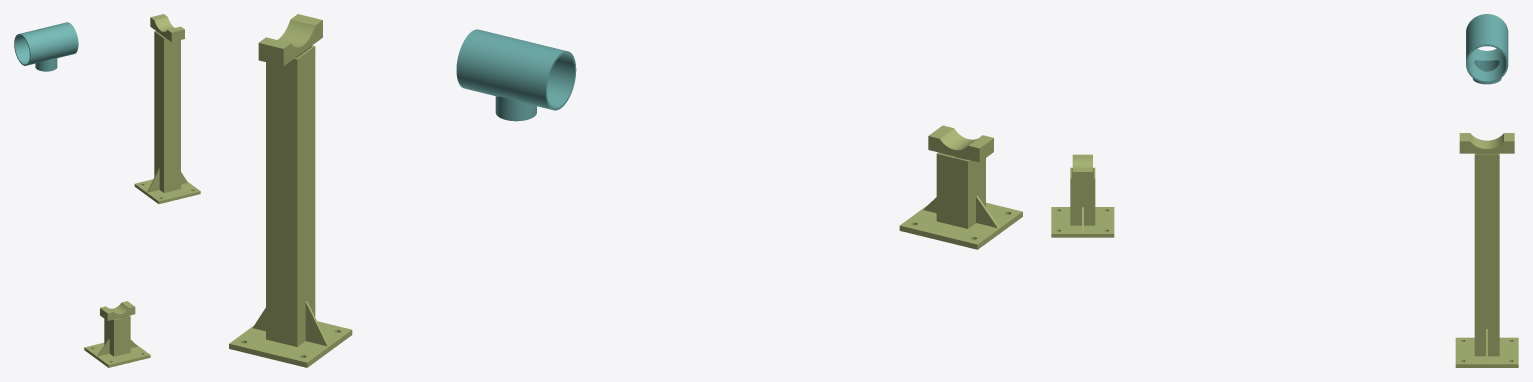
Rendered from step_68.glb.
The picture shows the model from 3 angles, left to right: view 1: azimuth 30°, elevation 25°; view 2: azimuth 150°, elevation 25°; view 3: azimuth 270°, elevation 25°; orthographic projection. The views are drawn at different scales.
Parts seen in each view (by area): view 1: part__pipe support SP-101, tall, part__6" x 4" reducing tee, part__pipe support SP-101, short; view 2: part__pipe support SP-101, tall, part__6" x 4" reducing tee, part__pipe support SP-101, short; view 3: part__pipe support SP-101, tall, part__pipe support SP-101, short, part__6" x 4" reducing tee.
Boxes of the visible parts, x1,y1,x2,y2 form: part__pipe support SP-101, tall: (134, 14, 200, 203); part__6" x 4" reducing tee: (14, 22, 78, 71); part__pipe support SP-101, short: (84, 301, 150, 367); part__pipe support SP-101, tall: (229, 14, 352, 367); part__6" x 4" reducing tee: (456, 29, 576, 121); part__pipe support SP-101, short: (899, 125, 1022, 249); part__pipe support SP-101, tall: (1455, 133, 1518, 367); part__pipe support SP-101, short: (1051, 154, 1114, 237); part__6" x 4" reducing tee: (1466, 14, 1508, 84).
Bounding box in the file's own units: 1472 × 1084 × 1850.
